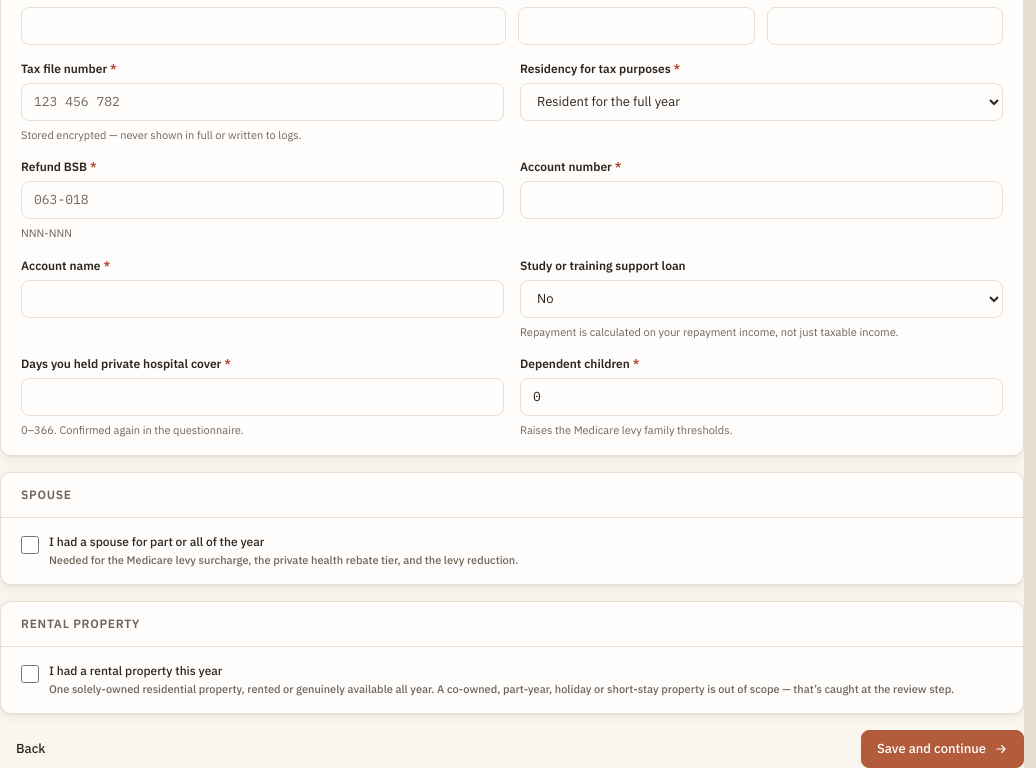
Test case: DetailsForm — spouse toggle (PRD FR-1) › reveals spouse fields once the toggle is checked, and hides them again when unchecked
The width and height of the screenshot is (1036, 768).
(page scrolled)
Click the checkbox labelled "I had a spouse" at {"x": 30, "y": 544}, box 21,536 -> 39,554
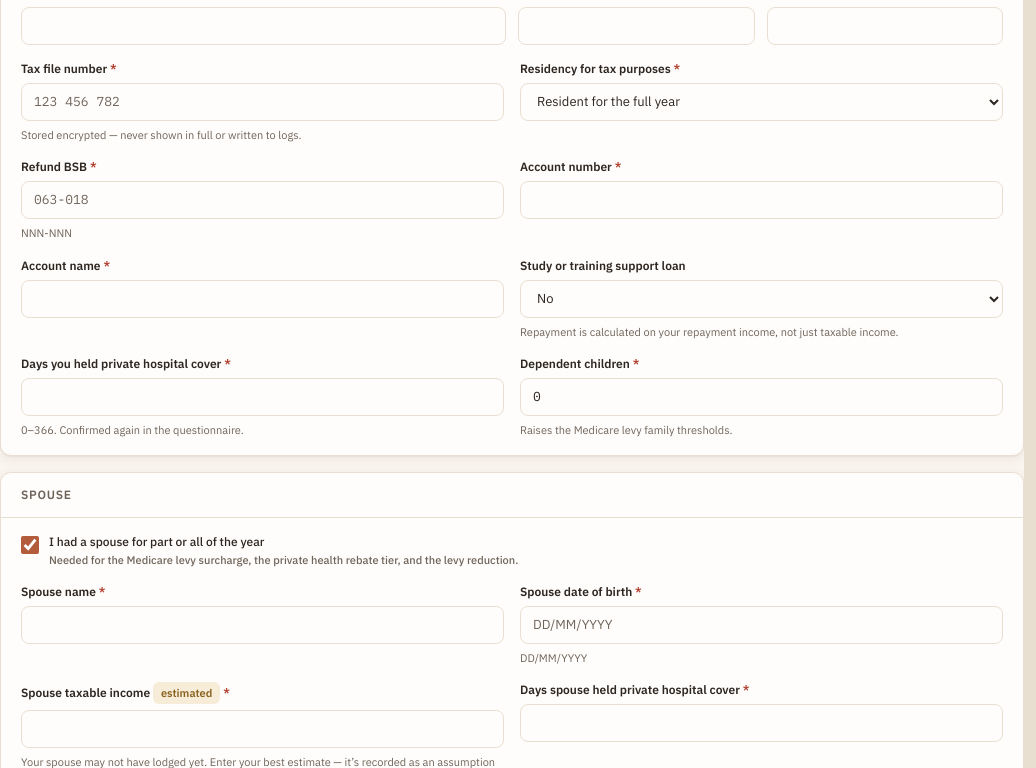
Now the field labelled "Spouse name *" is shown, box 21,606 -> 504,644
Now the text "estimated" is shown, box 153,682 -> 220,704
Click the checkbox labelled "I had a spouse" at {"x": 30, "y": 544}, box 21,536 -> 39,554
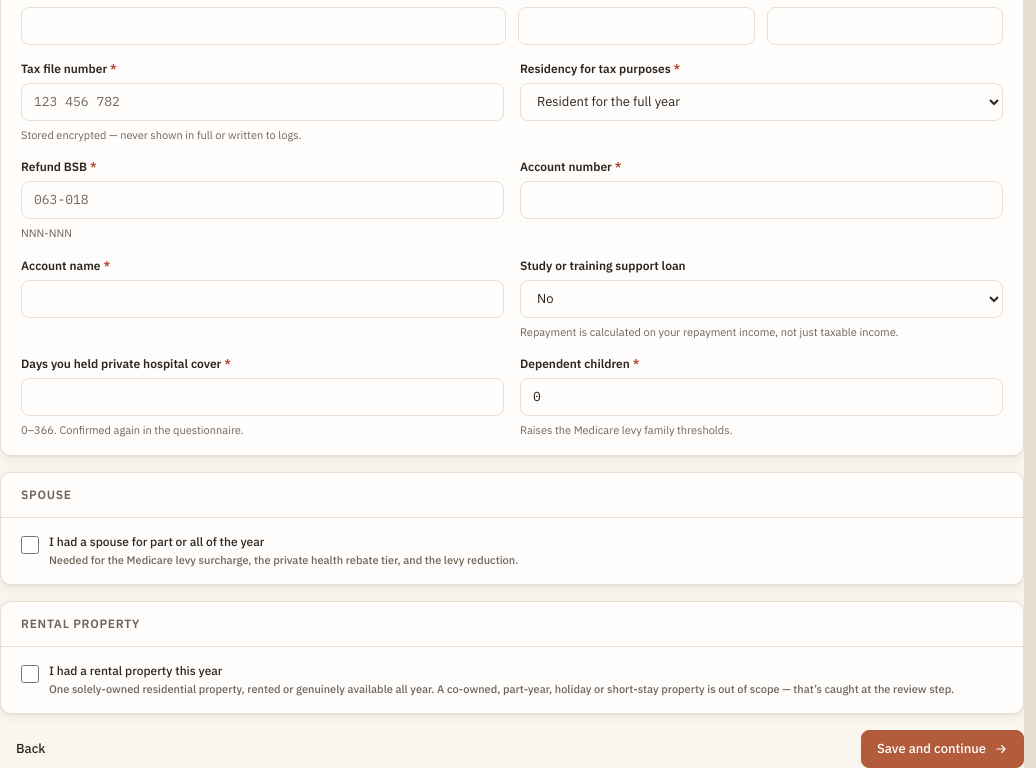
Now the label labelled "Spouse name" is gone
